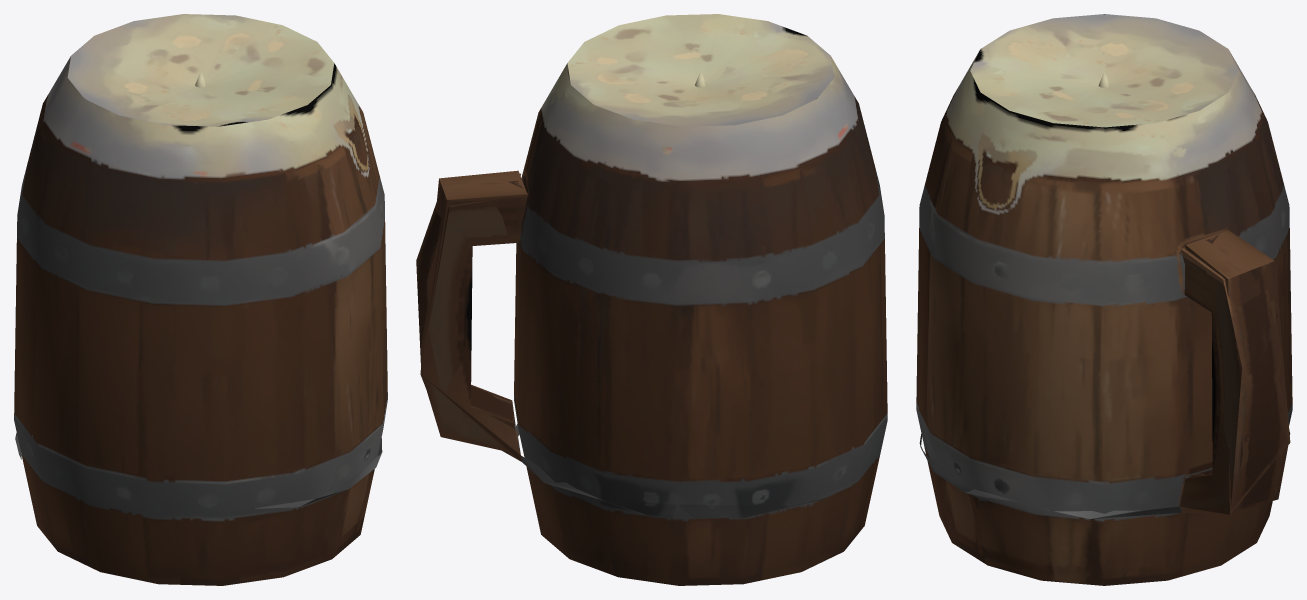
Rendered from mug_lod0.glb.
3 views of the same model, side by side, from view 1: azimuth 30°, elevation 25°; view 2: azimuth 150°, elevation 25°; view 3: azimuth 270°, elevation 25° (orthographic).
Parts seen in each view (by area): view 1: low; view 2: low; view 3: low.
Boxes of the visible parts, x1,y1,x2,y2 form: low: (14,14,387,585); low: (416,14,887,585); low: (916,14,1292,585).
Bounding box in the file's own units: 0.1481 × 0.1667 × 0.1276.
1 material, 1 textured.
